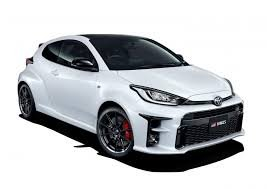mobil: (14, 30, 250, 164)
